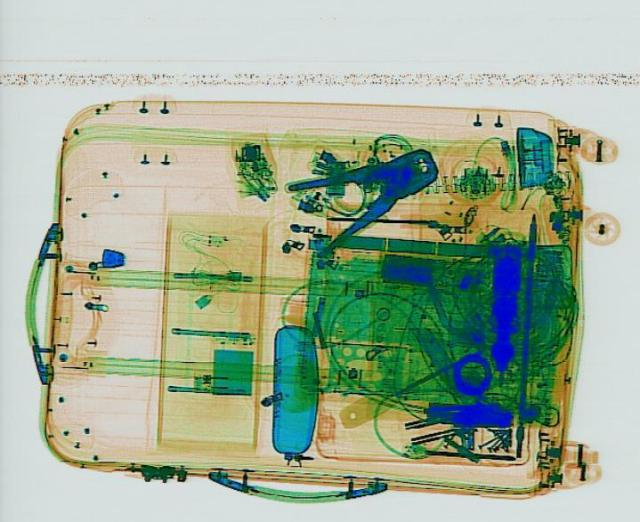Pliers: (274, 133, 463, 255)
